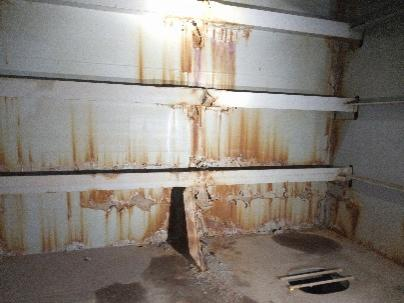corrosion: (206, 17, 261, 89), (301, 181, 369, 237), (200, 188, 246, 235), (129, 194, 172, 243), (253, 184, 299, 228), (319, 38, 355, 92), (228, 119, 267, 168), (163, 32, 196, 87), (179, 107, 211, 163), (211, 112, 246, 162), (0, 196, 29, 251), (320, 115, 350, 163), (79, 115, 105, 165), (11, 107, 32, 165), (34, 226, 72, 255), (73, 194, 128, 213), (132, 36, 150, 82), (268, 134, 293, 167), (74, 212, 94, 250), (68, 113, 82, 164)
